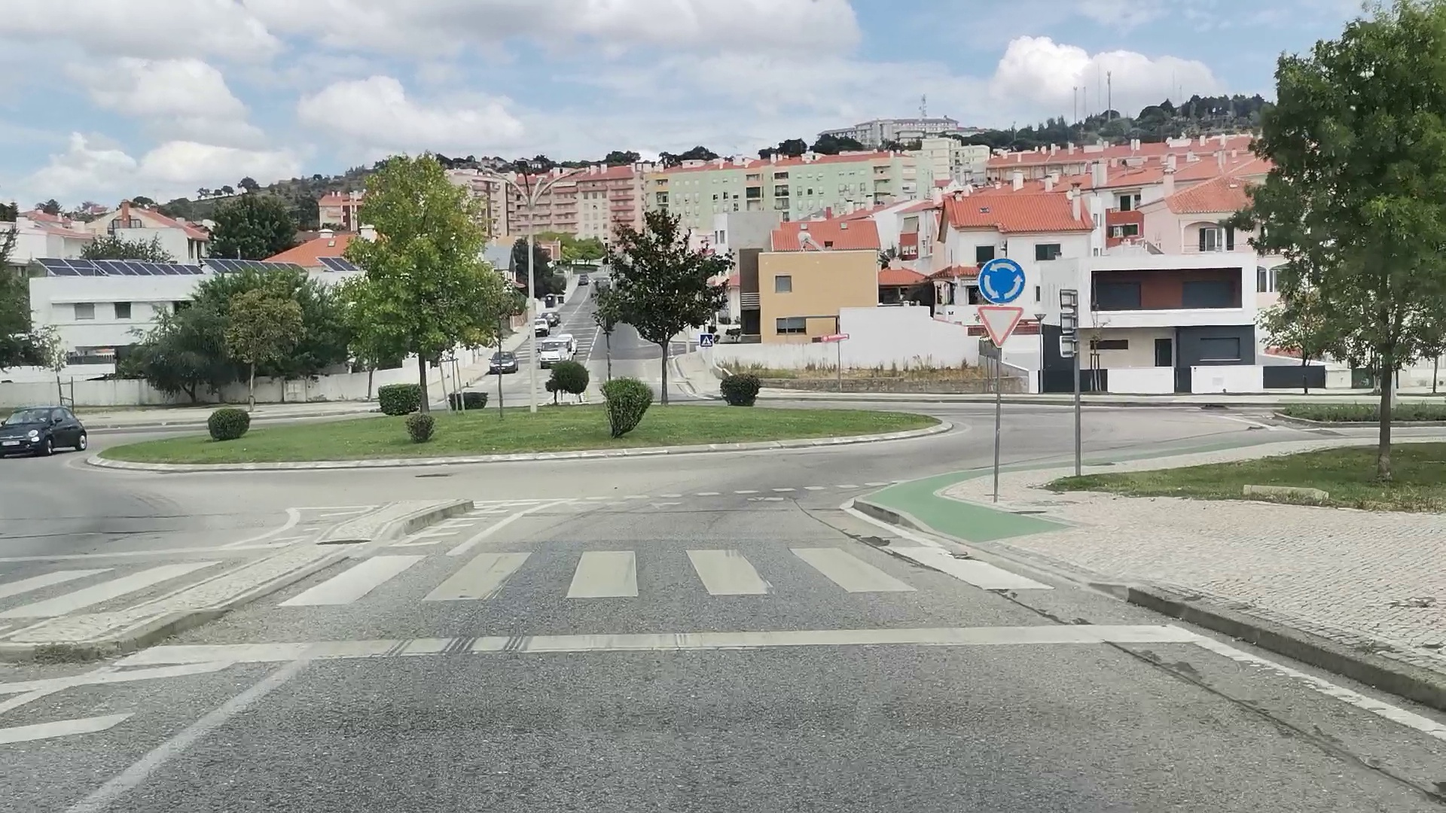Stairs: (264, 541, 1053, 605)
